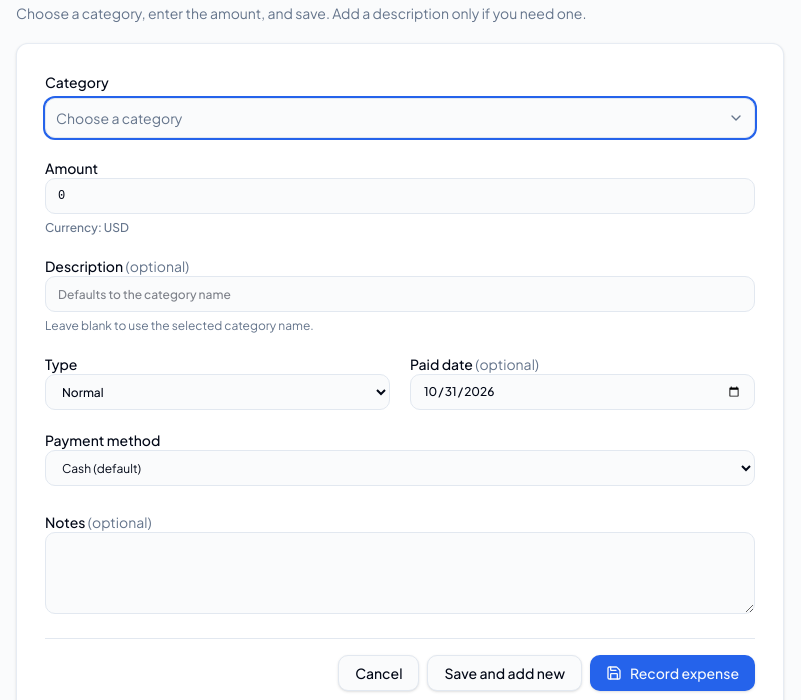
Test case: expense UI › validates required fields when clicking Record expense
(page scrolled)
Click the button "Record expense". click: click(672, 673)
box: 590,655 -> 755,691
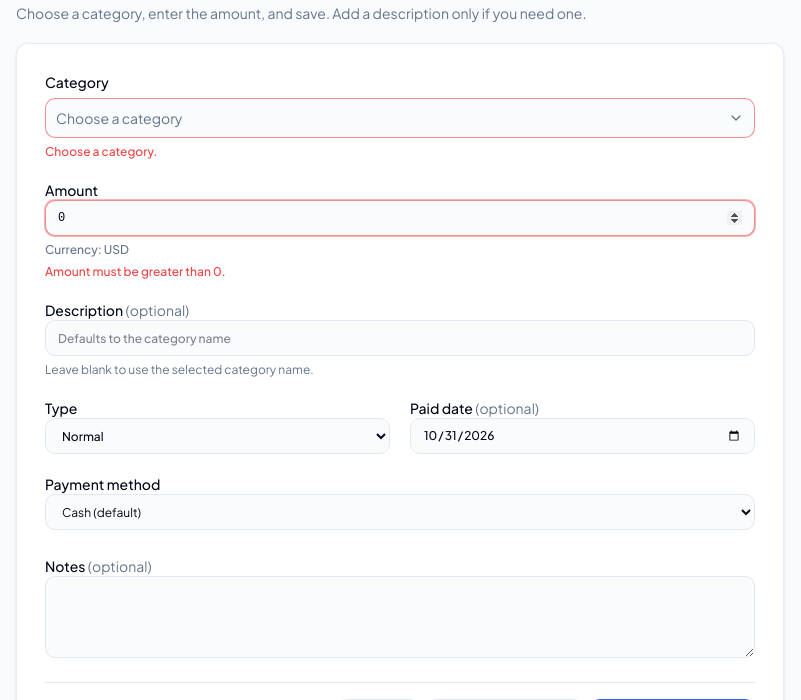
Now the text "Choose a category." is shown, box 45,144 -> 157,159
Now the text "Amount must be greater than 0." is shown, box 45,264 -> 226,279
